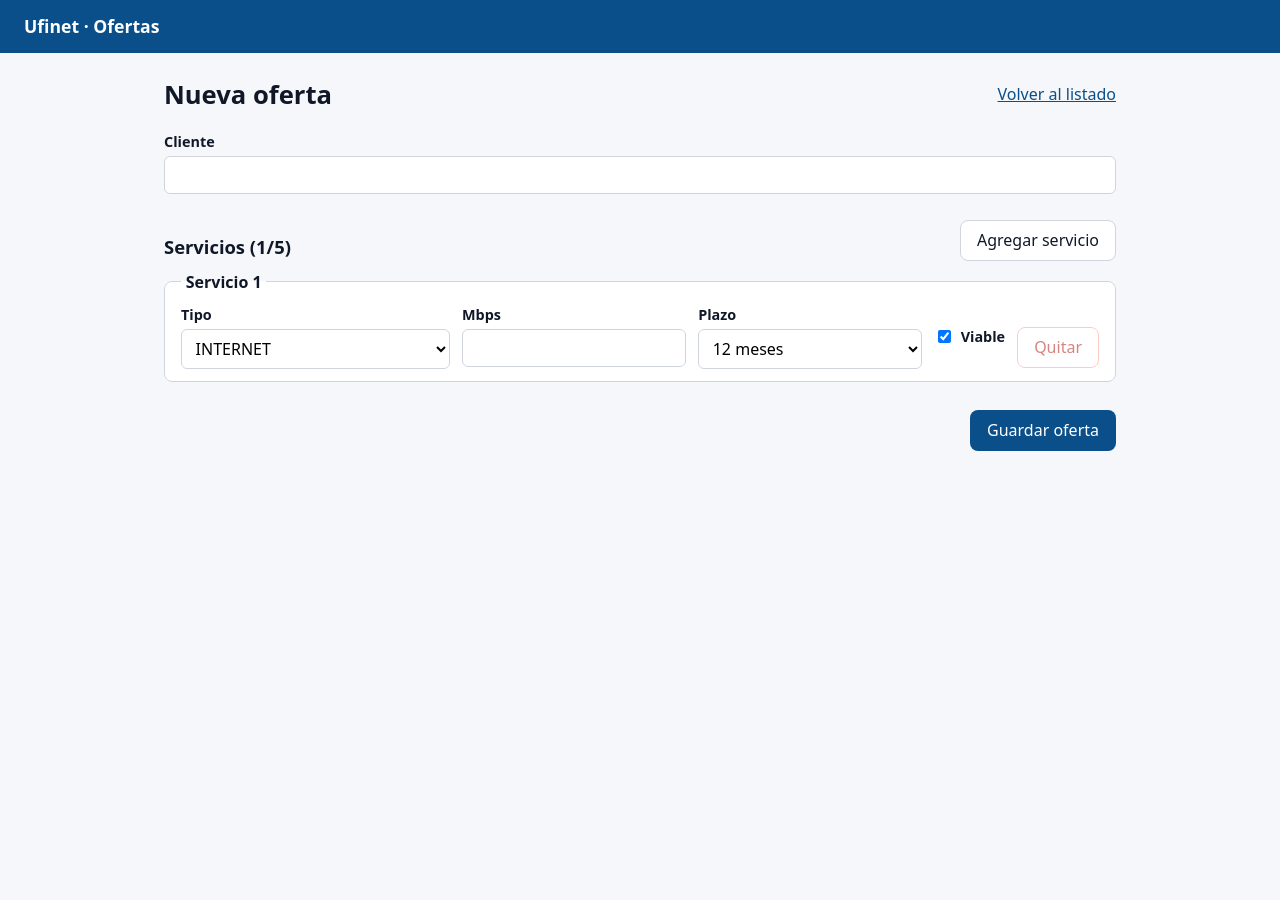
Test: Nueva oferta (/offers/new) › muestra los errores 400 que devuelve la API en cada campo
The width and height of the screenshot is (1280, 900).
Type "Cliente Demo S.A." into the field labelled "Cliente" at (640, 175), box [164, 156, 1116, 194]
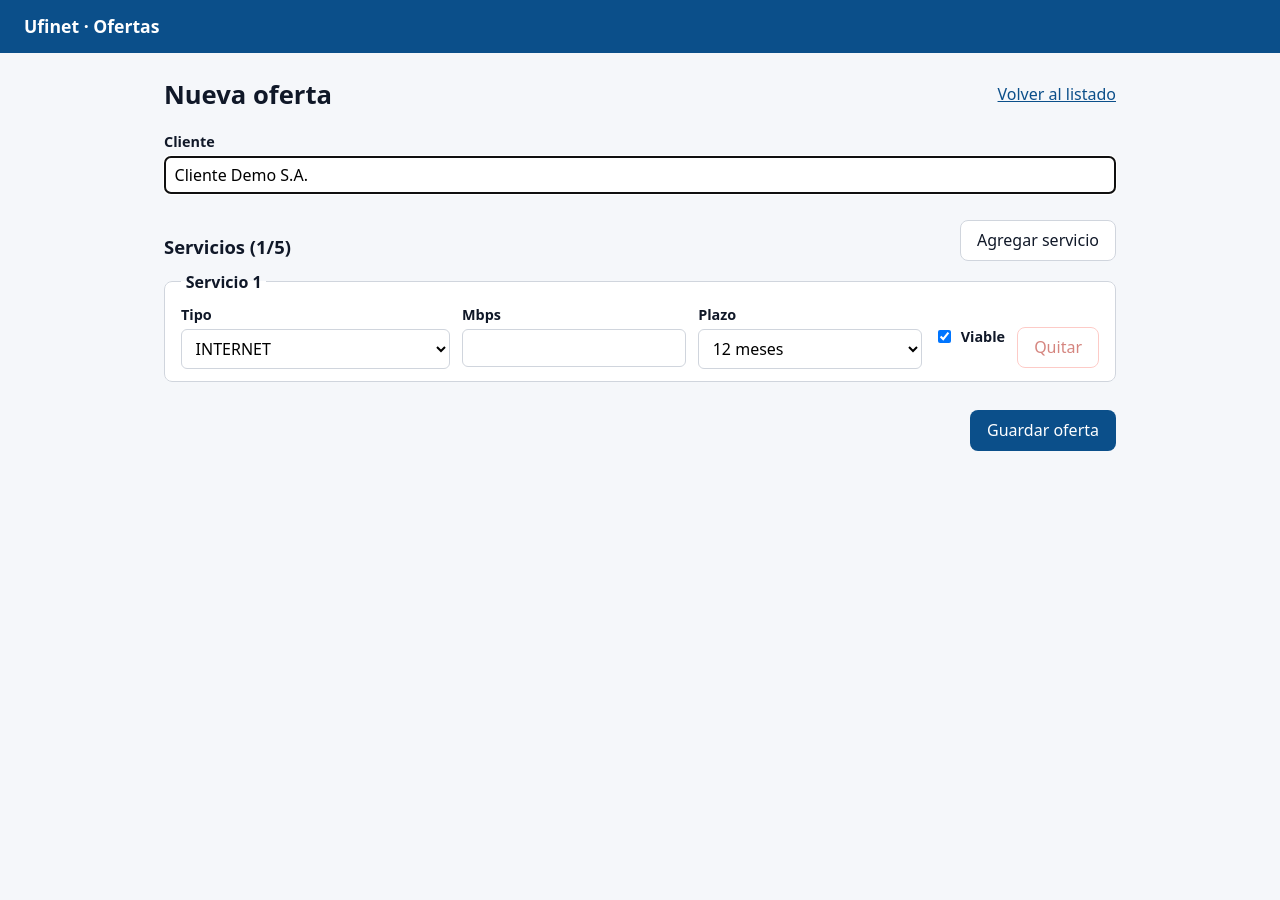
Type "100" into the number field labelled "Mbps" at (574, 348), box [462, 329, 686, 367]
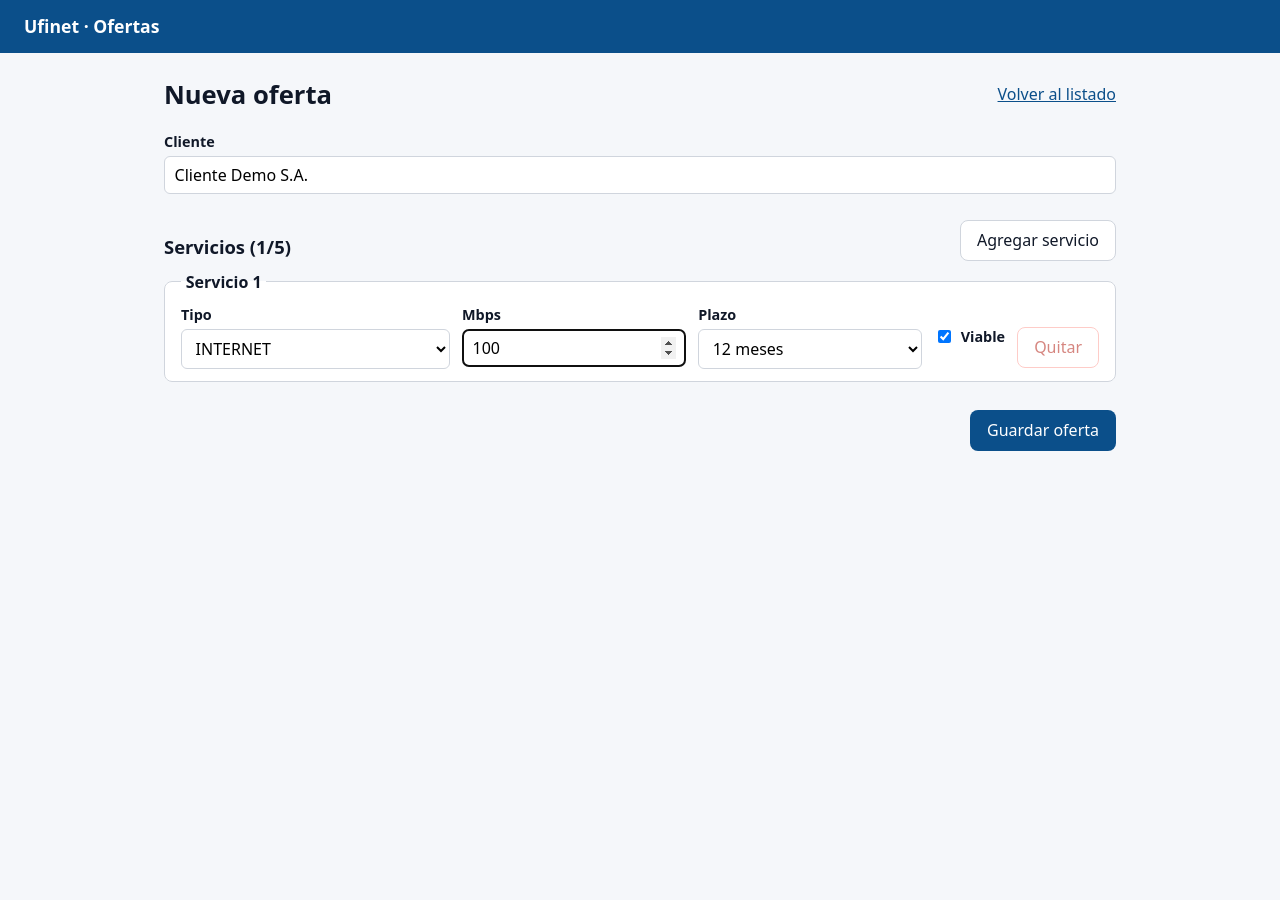
Select "36 meses" in the dropdown labelled "Plazo" at (810, 349), box [698, 329, 922, 369]
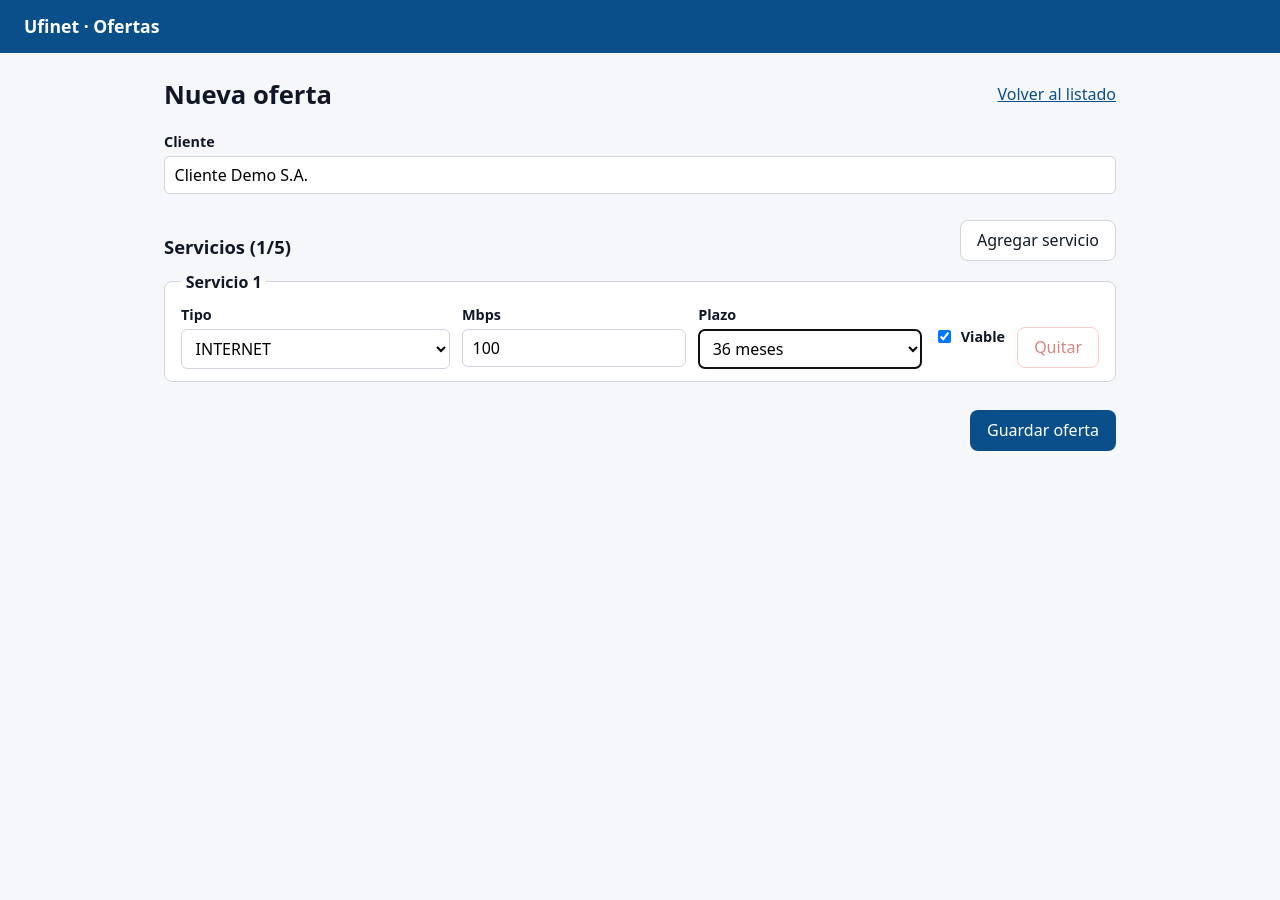
Click the button "Guardar oferta" at (1043, 430), box [970, 410, 1116, 450]
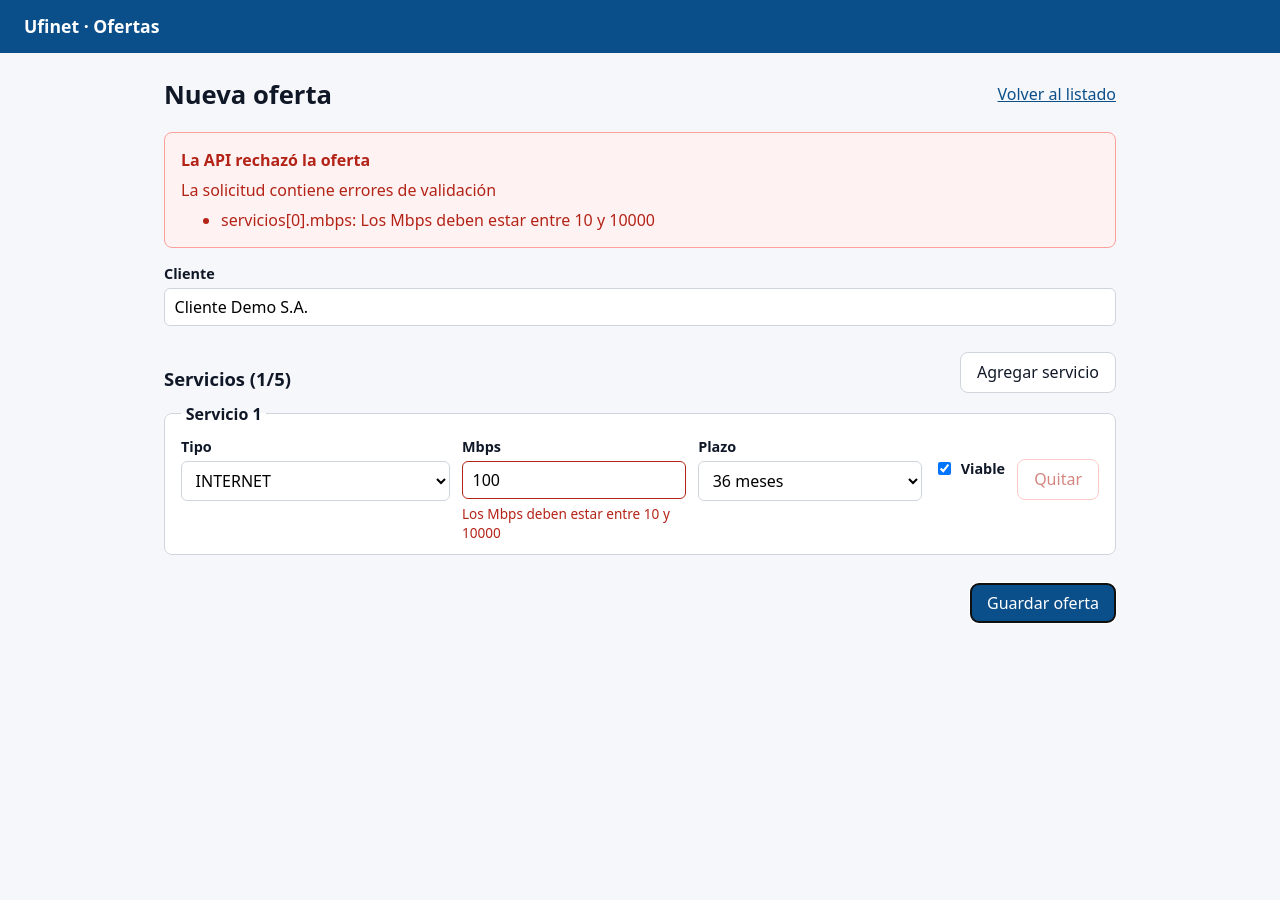
Now the text "La API rechazó la oferta" shows "La solicitud contiene errores de validación", box [181, 179, 496, 201]
Now the list item "servicios[0].mbps: Los Mbps deben estar entre 10 y 10000" is shown, box [221, 209, 655, 231]
